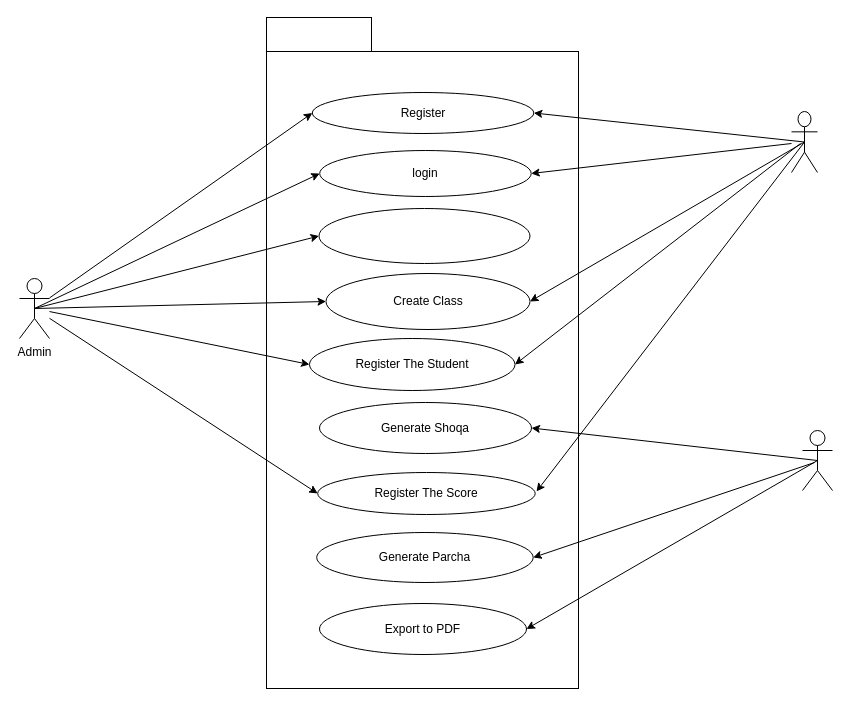
This 854x706 diagram has some shape labels left out. The shapes that lost their labels are listed below. From the top down, each one's centre as x and y in pixels, then its label:
point (319, 34): API School
point (804, 141): User
point (424, 236): Verify
point (817, 460): System
